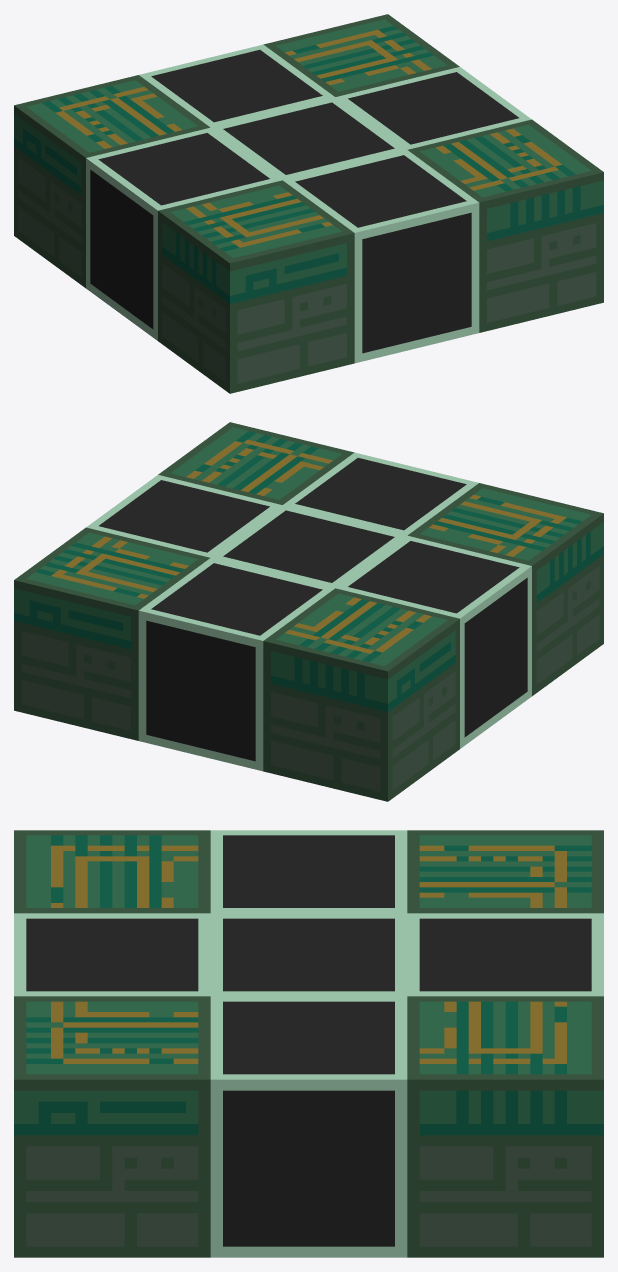
The model's file is m_tiles_3_3x3.fbx.
The picture shows the model from 3 angles, top to bottom: view 1: azimuth 30°, elevation 25°; view 2: azimuth 150°, elevation 25°; view 3: azimuth 270°, elevation 25°; orthographic projection. The views are drawn at different scales.
Parts seen in each view (by area): view 1: m_tiles_3_3x3; view 2: m_tiles_3_3x3; view 3: m_tiles_3_3x3.
Boxes of the visible parts, <box> form: m_tiles_3_3x3: <box>14,14,603,393</box>; m_tiles_3_3x3: <box>14,422,603,801</box>; m_tiles_3_3x3: <box>14,830,603,1257</box>.
Size of the model in its own units: 4.8 by 1.6 by 4.8.
1 material, 1 textured.
